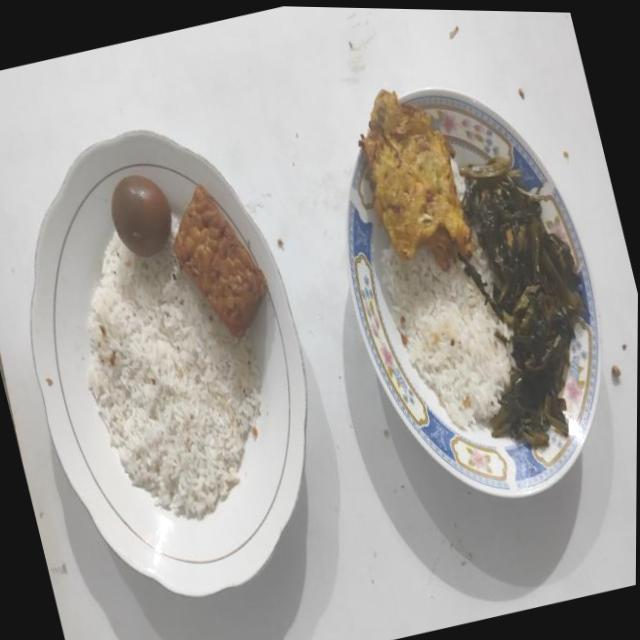nasi_putih: (87, 237, 260, 519), (382, 248, 512, 428)
tempe_goreng: (173, 185, 266, 336)
tumis_kangkung: (458, 165, 586, 446)
